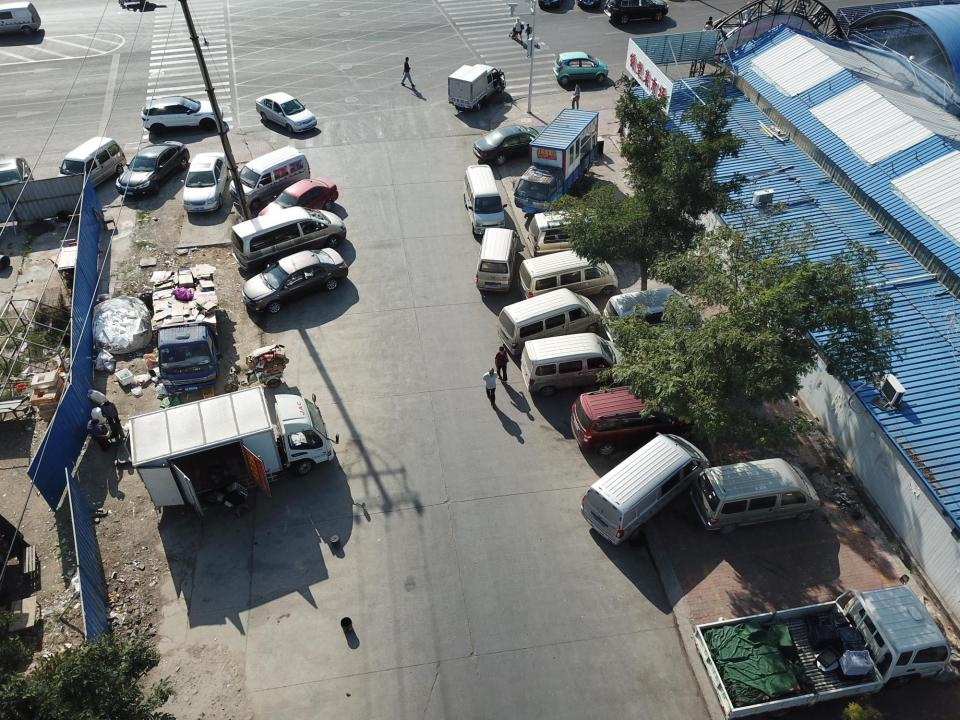car: (569, 386, 696, 461), (240, 246, 347, 316), (228, 206, 346, 268), (603, 286, 705, 341), (255, 177, 340, 226), (118, 137, 189, 194), (59, 136, 126, 190), (473, 122, 549, 164), (142, 96, 223, 134), (254, 90, 318, 133), (182, 151, 226, 211), (553, 50, 610, 80), (0, 2, 45, 38), (605, 0, 672, 23), (0, 153, 35, 193)
truck: (687, 585, 952, 715), (124, 382, 339, 518), (514, 106, 605, 211), (149, 268, 220, 395), (446, 63, 506, 111)
van: (579, 432, 710, 545), (690, 459, 823, 528), (520, 332, 635, 397), (497, 286, 602, 356), (518, 248, 622, 296), (230, 145, 309, 206), (524, 211, 612, 254), (476, 224, 521, 291), (462, 165, 506, 232)
